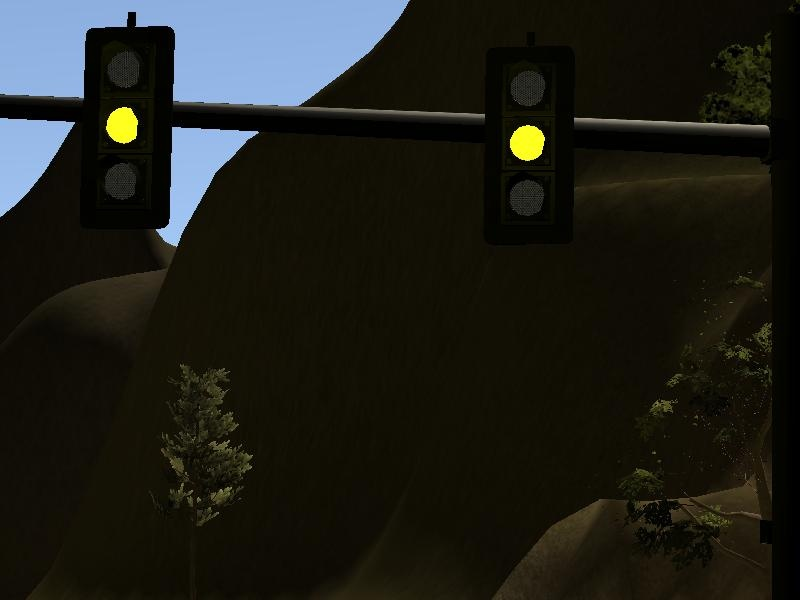yellow: (466, 28, 588, 254), (73, 16, 183, 238)
